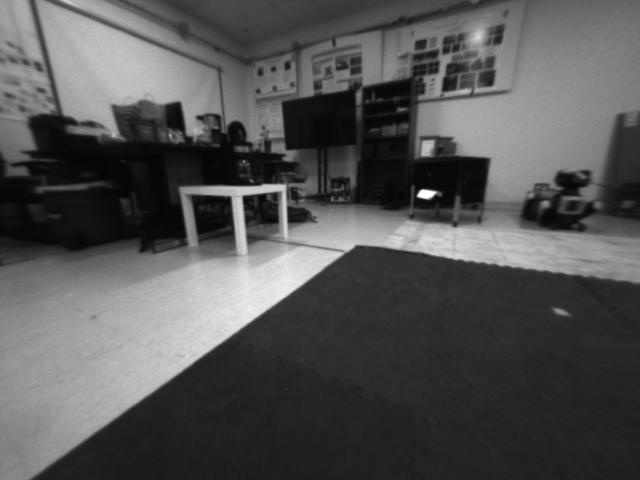coffee_pot: (220, 139, 265, 188)
